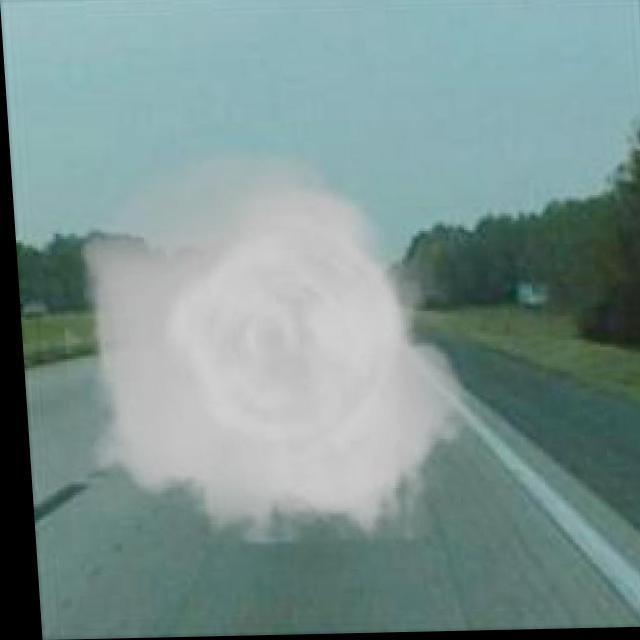Smoke: (64, 142, 470, 560)
